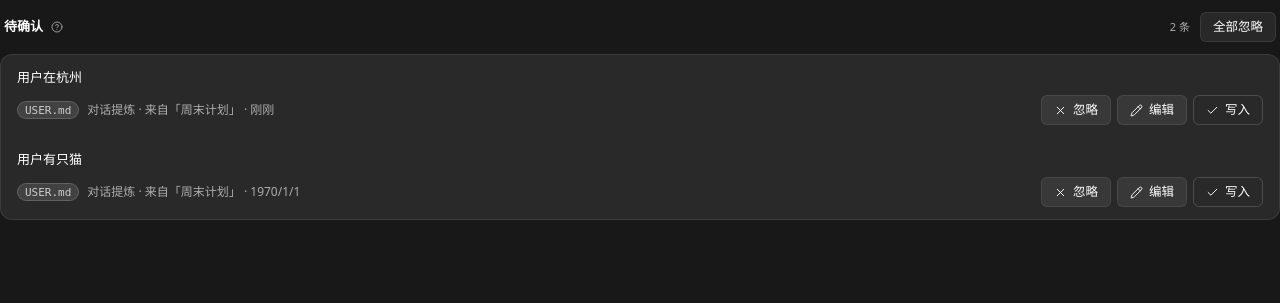
MemoryReviewSection › edits text and target file before writing; a refused write stays with an inline reason
Expected: the text "用户在杭州" is shown, [17,68,82,86]
Click the button "编辑" in the row of "对话提炼 · 来自「周末计划」 · 刚刚": {"x": 1152, "y": 110} [1117,95,1187,125]
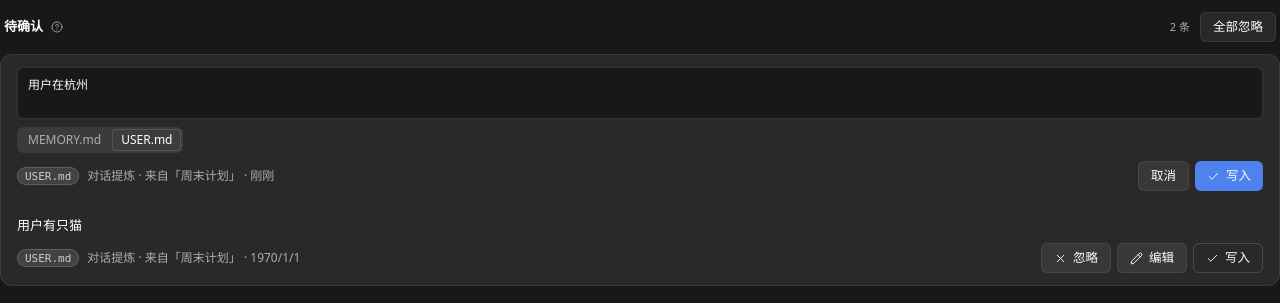
Replace the text in the text box named "记忆内容" with "用户住在杭州西湖区": {"x": 640, "y": 93} [17,67,1263,119]
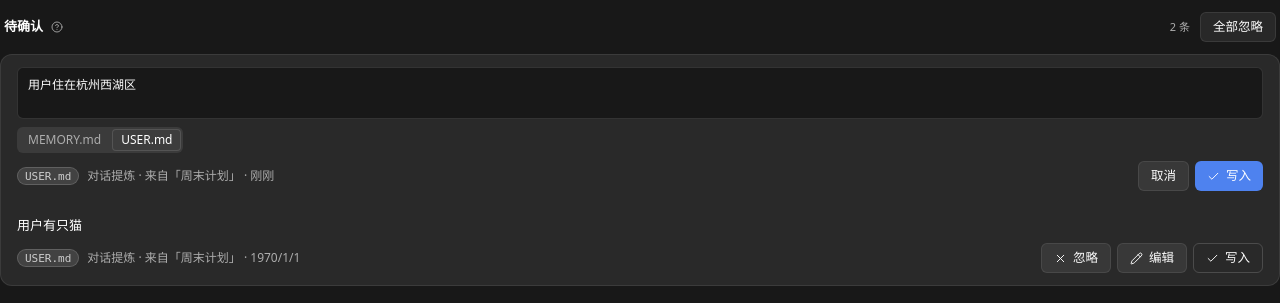
Click the radio button labelled "MEMORY.md": {"x": 65, "y": 140} [19,129,110,151]
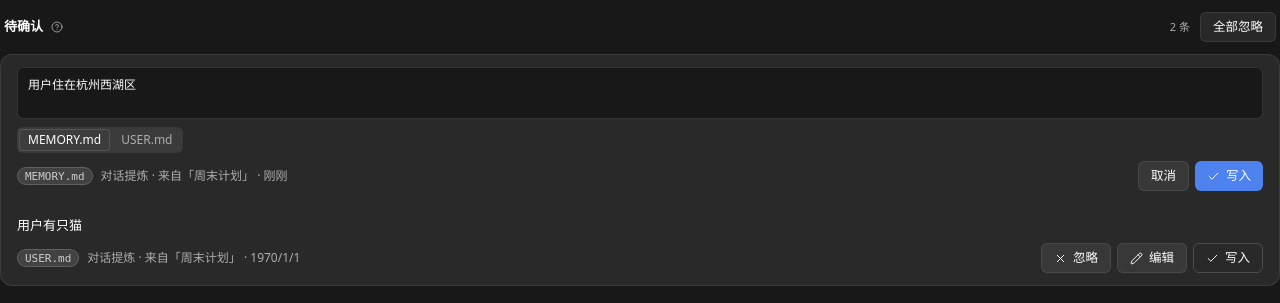
Click the button "写入" in the row of "对话提炼 · 来自「周末计划」 · 刚刚": {"x": 1229, "y": 176} [1195,161,1263,191]
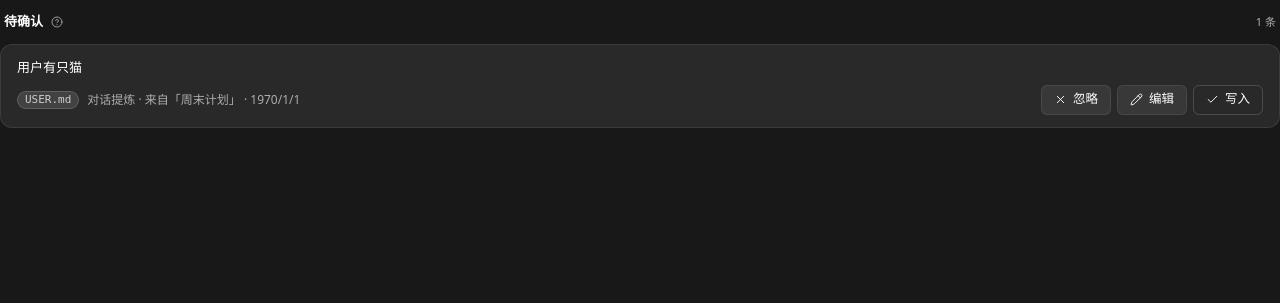
Expected: the text "用户在杭州" is not shown
Click the button "写入": {"x": 1228, "y": 100} [1193,84,1263,114]
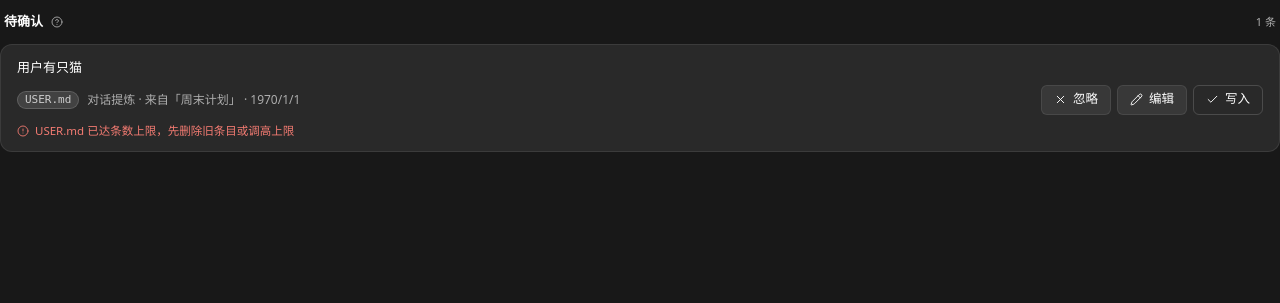
Expected: the text "用户有只猫" is shown, [17,58,82,76]
Result: the text "USER.md 已达条数上限，先删除旧条目或调高上限" is shown at [35,122,294,138]
